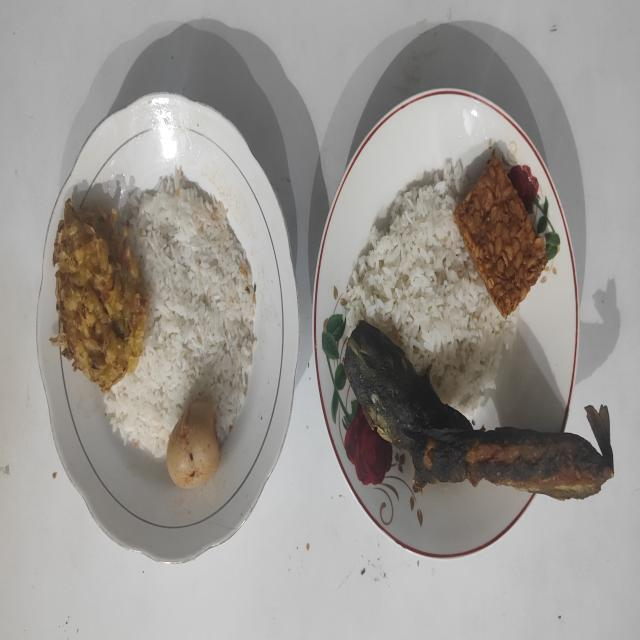nasi_putih: (341, 159, 518, 416), (104, 170, 257, 456)
tempe_goreng: (453, 156, 548, 318)
